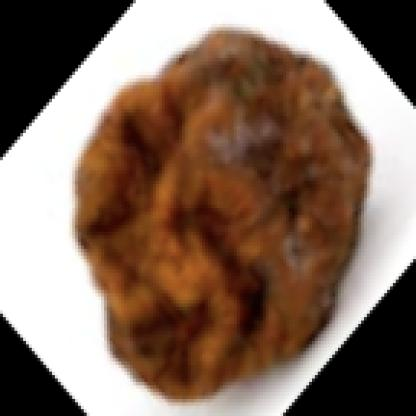rotten: (71, 27, 371, 408)
